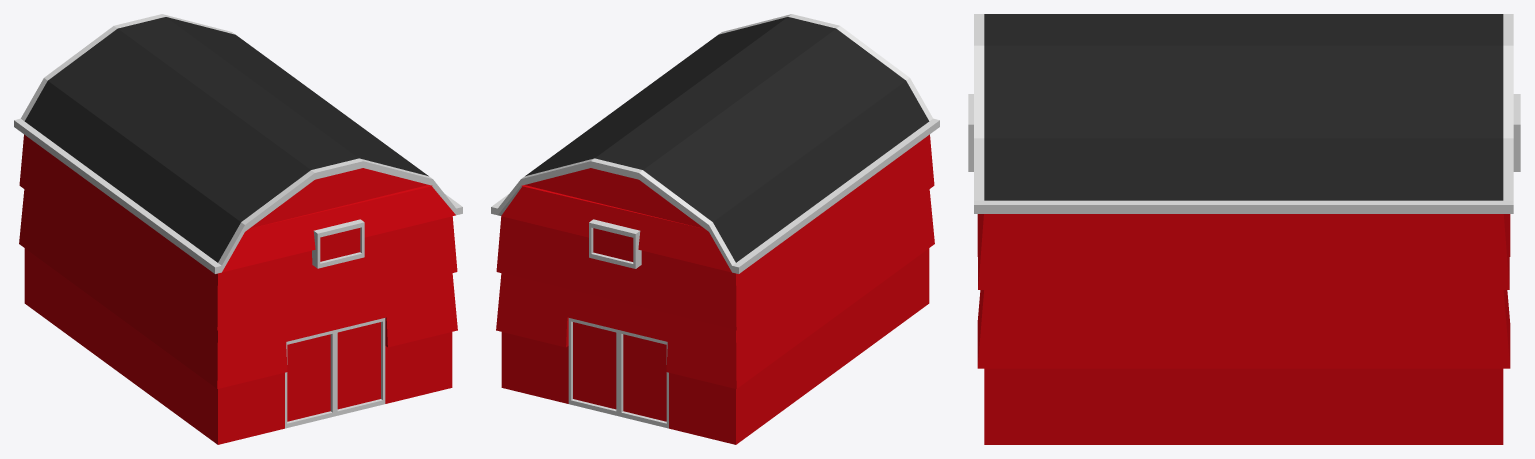
Rendered from Barn.fbx.
3 renders of one model, left to right at view 1: azimuth 30°, elevation 25°; view 2: azimuth 150°, elevation 25°; view 3: azimuth 270°, elevation 25°, orthographic. The views are drawn at different scales.
Visible parts, largest first — view 1: Barn, Barn Door 1, Barn Door 2; view 2: Barn, Barn Door 4, Barn Door 3; view 3: Barn.
Part boxes in pixels (x1,y1,x2,y2): Barn: (14, 14, 462, 444); Barn Door 1: (335, 318, 385, 416); Barn Door 2: (285, 330, 335, 428); Barn: (491, 14, 939, 444); Barn Door 4: (568, 318, 618, 416); Barn Door 3: (618, 330, 668, 428); Barn: (968, 14, 1520, 444).
Bounding box in the file's own units: 74 × 71.93 × 106.
